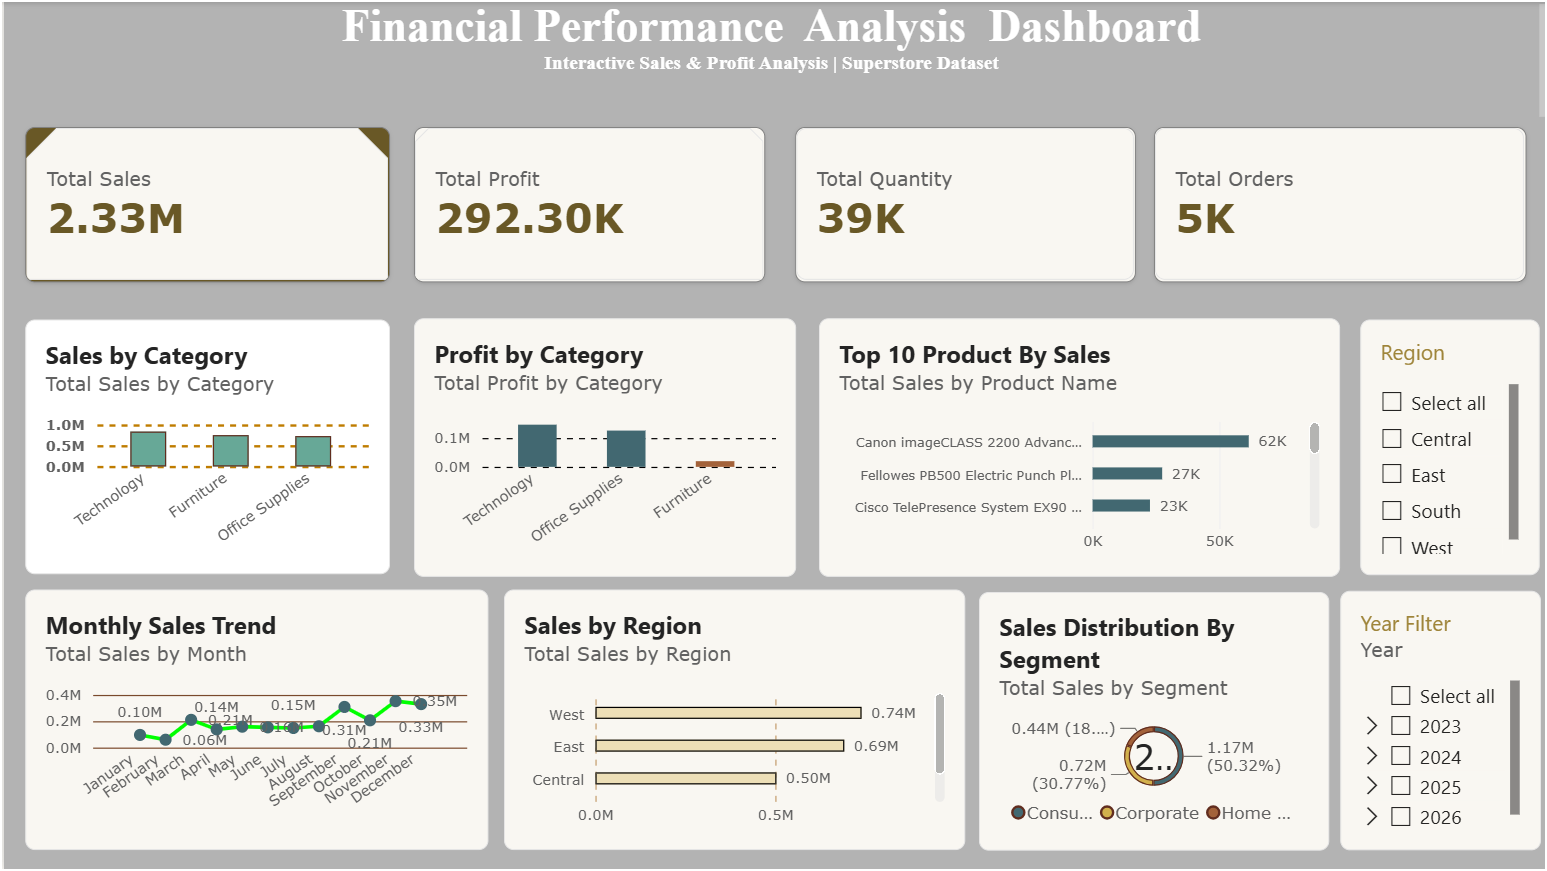

The page's visual inventory and layout, read from the dashboard file:
{"tool":"powerbi","page":{"name":"Page 1","canvas":[1280,720],"ordinal":0},"visuals":[{"type":"textbox","box":[0,0,1280.5,150.7],"z":0},{"type":"cardVisual","fields":{"Data":["Orders.Total Sales"]},"box":[17.5,103.8,302.5,128.8],"z":1000},{"type":"cardVisual","fields":{"Data":["Orders.Total Profit"]},"box":[340,103.8,291.2,128.8],"z":2000},{"type":"cardVisual","fields":{"Data":["Orders.Total Quantity"]},"box":[656.1,103.9,282.4,128.8],"z":3000},{"type":"cardVisual","fields":{"Data":["Orders.Total Orders"]},"box":[953,104.1,308.9,128.8],"z":4000},{"type":"clusteredColumnChart","title":" Sales by Category","fields":{"Category":["Orders.Category"],"Y":["Orders.Total Sales"]},"box":[17.5,263.8,383.8,211.2],"z":5000},{"type":"clusteredColumnChart","title":"Profit  by Category","fields":{"Category":["Orders.Category"],"Y":["Orders.Total Profit"]},"box":[416.2,262.5,381.2,213.8],"z":6000},{"type":"lineChart","title":"Monthly Sales Trend","fields":{"Category":["Orders.Order Date.Variation.Date Hierarchy.Year","Orders.Order Date.Variation.Date Hierarchy.Month"],"Y":["Orders.Total Sales"]},"box":[17.5,487.5,383.8,216.2],"z":7000},{"type":"clusteredBarChart","title":"Sales by Region","fields":{"Category":["Orders.Region"],"Y":["Orders.Total Sales"]},"box":[415,487.5,382.5,216.2],"z":8000},{"type":"listSlicer","title":"Year Filter ","fields":{"Values":["Orders.Order Date.Variation.Date Hierarchy.Year","Orders.Order Date.Variation.Date Hierarchy.Quarter","Orders.Order Date.Variation.Date Hierarchy.Month","Orders.Order Date.Variation.Date Hierarchy.Day"]},"box":[1146.2,487.5,127.5,216.2],"z":9000},{"type":"listSlicer","fields":{"Values":["Orders.Region"]},"box":[1145.9,263.4,127.3,212.2],"z":10000},{"type":"clusteredBarChart","title":"Top 10 Product By Sales","fields":{"Category":["Orders.Product Name"],"Y":["Orders.Total Sales"]},"box":[808.8,262.5,326.2,213.8],"z":11000},{"type":"donutChart","title":"Sales Distribution By Segment","fields":{"Category":["Orders.Segment"],"Y":["Orders.Total Sales"]},"box":[808.8,487.5,326.2,216.2],"z":12000}]}

Visuals, with their boxes in screenshot pixels (x1, y1, x2, y2), scaled from the page's 1280x720 canvas onto the 1547x871 screenshot:
textbox: <region>0, 0, 1546, 182</region>
cardVisual - Orders.Total Sales: <region>21, 126, 387, 281</region>
cardVisual - Orders.Total Profit: <region>411, 126, 763, 281</region>
cardVisual - Orders.Total Quantity: <region>793, 126, 1134, 282</region>
cardVisual - Orders.Total Orders: <region>1152, 126, 1525, 282</region>
" Sales by Category" clusteredColumnChart: <region>21, 319, 485, 575</region>
"Profit  by Category" clusteredColumnChart: <region>503, 318, 964, 576</region>
"Monthly Sales Trend" lineChart: <region>21, 590, 485, 851</region>
"Sales by Region" clusteredBarChart: <region>502, 590, 964, 851</region>
"Year Filter " listSlicer: <region>1385, 590, 1539, 851</region>
listSlicer - Orders.Region: <region>1385, 319, 1539, 575</region>
"Top 10 Product By Sales" clusteredBarChart: <region>978, 318, 1372, 576</region>
"Sales Distribution By Segment" donutChart: <region>978, 590, 1372, 851</region>
